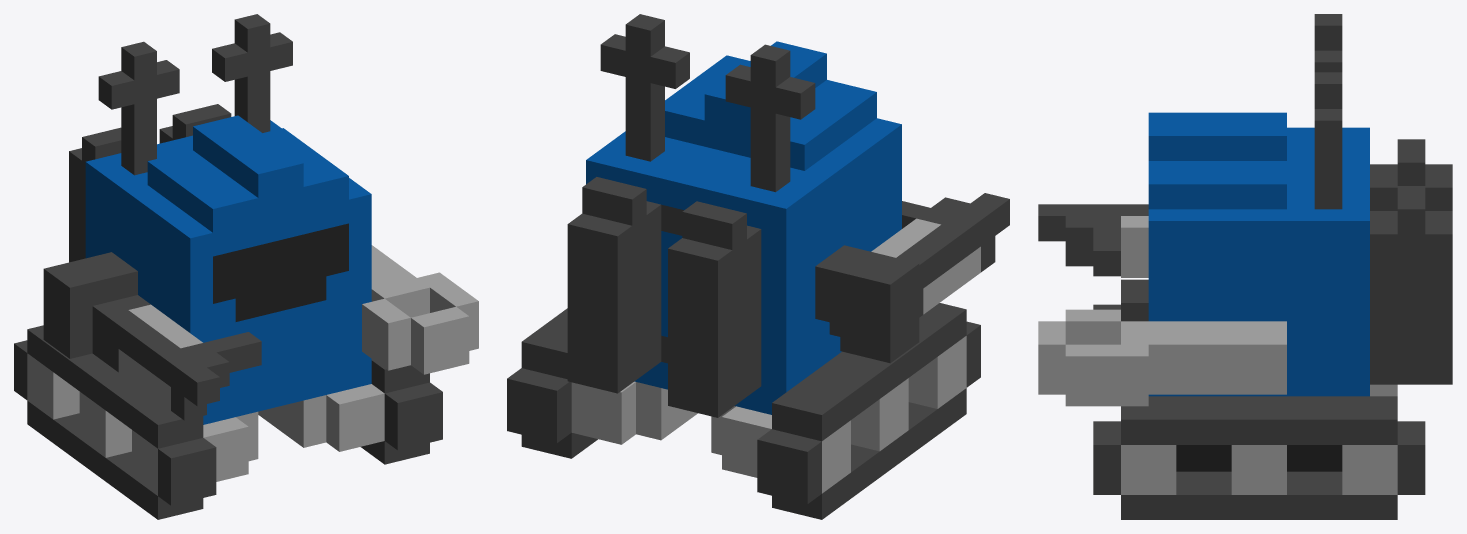
File: Blue-10.obj
The picture shows the model from 3 angles, left to right: view 1: azimuth 30°, elevation 25°; view 2: azimuth 150°, elevation 25°; view 3: azimuth 270°, elevation 25°; orthographic projection. The views are drawn at different scales.
Visible parts, largest first — view 1: Blue-10; view 2: Blue-10; view 3: Blue-10.
Part boxes in pixels (left/top/right/bottom): Blue-10: left=14, top=14, right=478, bottom=519; Blue-10: left=507, top=14, right=1009, bottom=519; Blue-10: left=1038, top=14, right=1452, bottom=519.
Size of the model in its own units: 14 by 16 by 15.
Materials: 1 (1 with a texture image).
